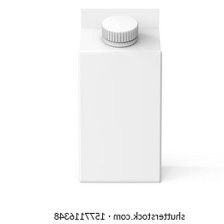carton: (70, 3, 165, 187)
